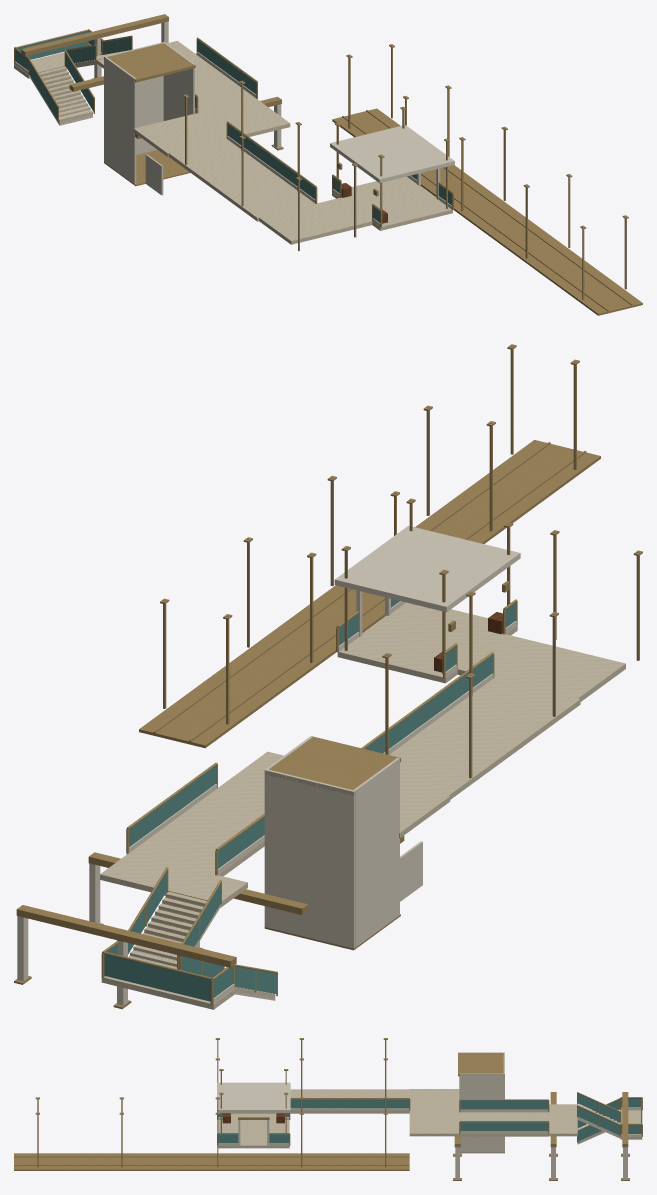
The model's file is AST-TRM-G4-006_aft_source.glb.
The picture shows the model from 3 angles, top to bottom: view 1: azimuth 30°, elevation 25°; view 2: azimuth 150°, elevation 25°; view 3: azimuth 270°, elevation 25°; orthographic projection. The views are drawn at different scales.
Visible parts, largest first — view 1: AFT__Upper_Port_CoreConnector, AFT__Broad_LocalLanding, AFT__LocalCanopy, AFT__LiftHousingSide_-7.7, AFT__Boarding_Pod, AFT__Port_TransverseConnector, AFT__LiftCap, AFT__Stair_EastCabin_Bypass, AFT__GuidewayWeb_7, AFT__LiftHousingRear, AFT__LiftHousingSide_-3.5, AFT__GuidewayWeb_6 (+12 smaller); view 2: AFT__LiftHousingRear, AFT__Upper_Port_CoreConnector, AFT__LocalCanopy, AFT__LiftHousingSide_-7.7, AFT__Boarding_Pod, AFT__Stair_EastCabin_Bypass, AFT__Port_TransverseConnector, AFT__LiftCap, AFT__GuidewayWeb_7, AFT__GuidewayWeb_0, AFT__Stair_BroadReturn, AFT__GuidewayWeb_1 (+12 smaller); view 3: AFT__Broad_LocalLanding, AFT__LocalCanopy, AFT__LiftHousingSide_-3.5, AFT__Boarding_Pod, AFT__Upper_Port_CoreConnector, AFT__Upper_Core_InnerGuard_infill, AFT__Stair_EastCabin_Bypass, AFT__GuidewayWeb_7, AFT__LiftCap, AFT__Return_Outer_infill, AFT__Return_Inner_infill, AFT__Stair_BroadReturn (+16 smaller).
Boxes of the visible parts, x1,y1,x2,y2 form: AFT__Upper_Port_CoreConnector: (168,139,315,221); AFT__Broad_LocalLanding: (133,98,290,156); AFT__LocalCanopy: (330,125,454,182); AFT__LiftHousingSide_-7.7: (104,57,136,184); AFT__Boarding_Pod: (332,176,452,230); AFT__Port_TransverseConnector: (259,198,372,244); AFT__LiftCap: (104,43,195,82); AFT__Stair_EastCabin_Bypass: (186,55,257,113); AFT__GuidewayWeb_7: (558,273,642,315); AFT__LiftHousingRear: (104,42,164,161); AFT__LiftHousingSide_-3.5: (163,42,194,120); AFT__GuidewayWeb_6: (525,250,602,285); AFT__LiftHousingRear: (264,769,354,948); AFT__Upper_Port_CoreConnector: (389,678,580,799); AFT__LocalCanopy: (334,525,520,612); AFT__LiftHousingSide_-7.7: (353,758,399,947); AFT__Boarding_Pod: (337,602,517,683); AFT__Stair_EastCabin_Bypass: (126,788,264,876); AFT__Port_TransverseConnector: (457,634,625,701); AFT__LiftCap: (265,736,400,795); AFT__GuidewayWeb_7: (475,440,600,502); AFT__GuidewayWeb_0: (139,694,253,748); AFT__Stair_BroadReturn: (100,853,247,900); AFT__GuidewayWeb_1: (187,659,301,712); AFT__Broad_LocalLanding: (409,1089,459,1136); AFT__LocalCanopy: (217,1082,290,1112); AFT__LiftHousingSide_-3.5: (459,1073,503,1152); AFT__Boarding_Pod: (218,1119,289,1148); AFT__Upper_Port_CoreConnector: (290,1089,409,1113); AFT__Upper_Core_InnerGuard_infill: (290,1099,408,1108); AFT__Stair_EastCabin_Bypass: (460,1112,548,1136); AFT__GuidewayWeb_7: (14,1153,73,1170); AFT__LiftCap: (458,1052,504,1076); AFT__Return_Outer_infill: (460,1100,548,1109); AFT__Return_Inner_infill: (460,1122,548,1131); AFT__Stair_BroadReturn: (548,1104,577,1136).
Size of the model in its own units: 15.04 by 8.63 by 52.46.
Materials: 6 (4 with a texture image).
